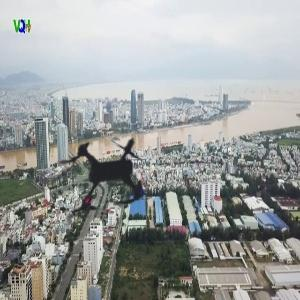drone: (11, 75, 204, 268)
